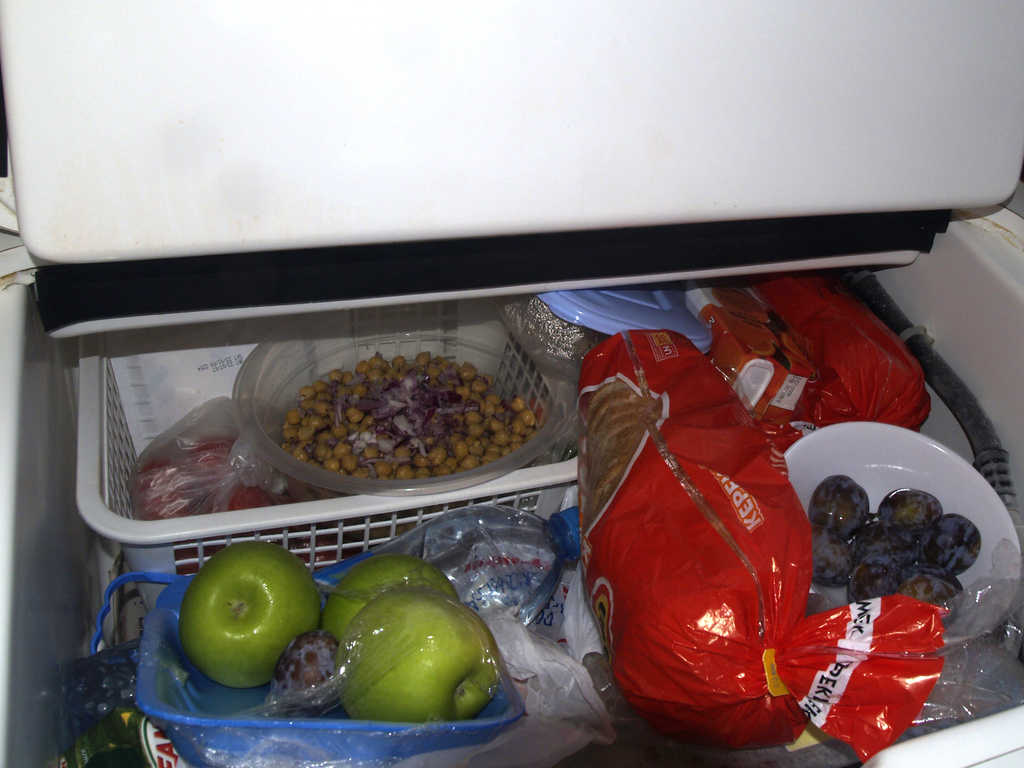refrigerator door: (15, 9, 1024, 223)
